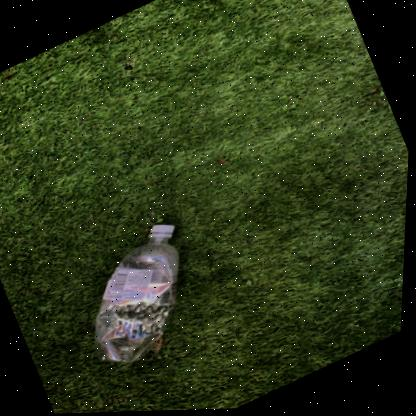Plastic: (97, 226, 181, 363)
